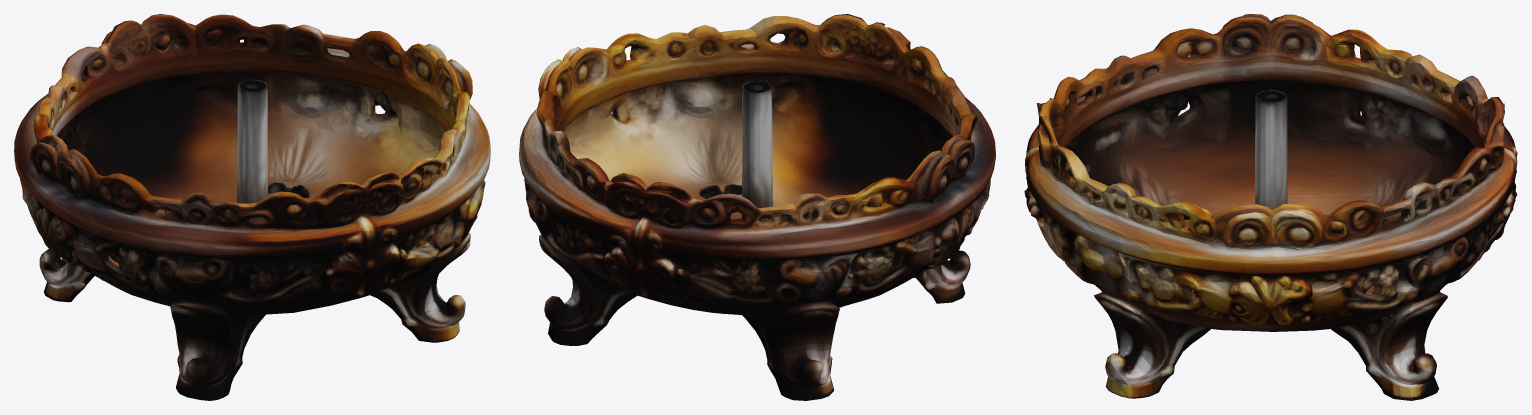
File: wooden-incense-holder-vintage.jpeg.glb
3 renders of one model, left to right at view 1: azimuth 30°, elevation 25°; view 2: azimuth 150°, elevation 25°; view 3: azimuth 270°, elevation 25°, orthographic. The views are drawn at different scales.
Visible parts, largest first — view 1: world; view 2: world; view 3: world.
Part boxes in pixels (x1,y1,x2,y2): world: [14, 14, 490, 400]; world: [519, 14, 995, 400]; world: [1024, 14, 1517, 400].
Bounding box in the file's own units: 0.9982 × 0.5249 × 0.9999.
Materials: 1 (1 with a texture image).
